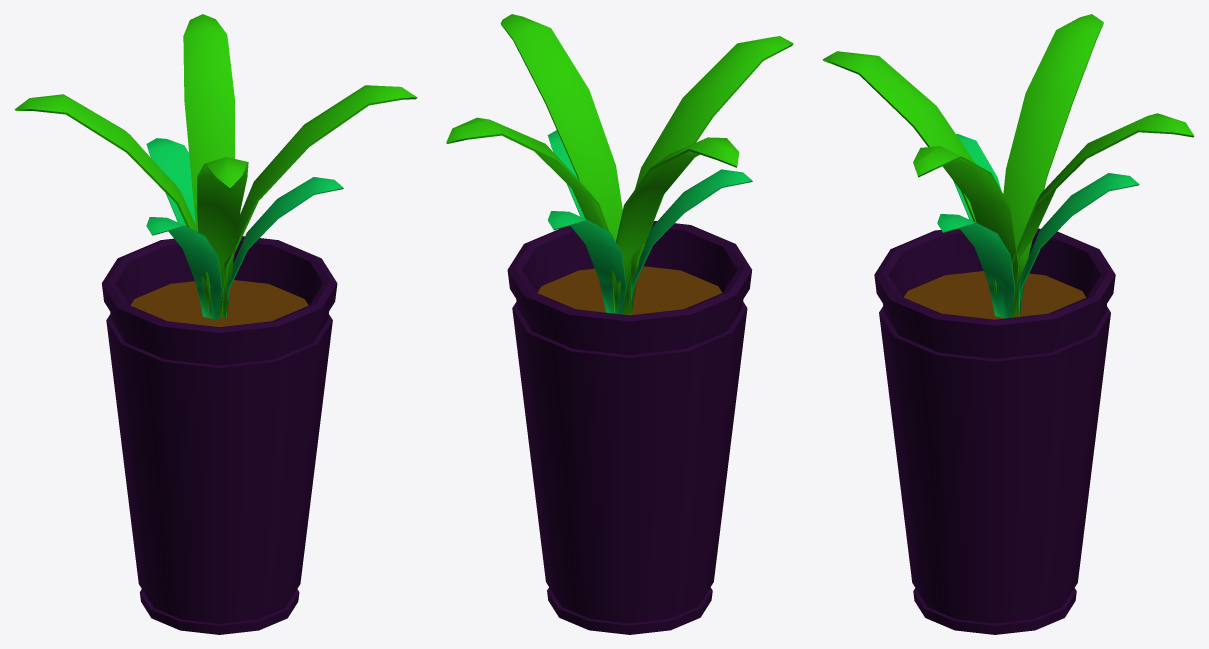
File: Hea_Player_Plant_Ground.fbx
3 views of the same model, side by side, from view 1: azimuth 30°, elevation 25°; view 2: azimuth 150°, elevation 25°; view 3: azimuth 270°, elevation 25° (orthographic). The views are drawn at different scales.
Parts seen in each view (by area): view 1: FlowerPot_I2.001, Plant_I2.002, Plant_I1.003; view 2: FlowerPot_I2.001, Plant_I2.002, Plant_I1.003; view 3: FlowerPot_I2.001, Plant_I2.002, Plant_I1.003.
Part boxes in pixels (<box>): FlowerPot_I2.001: <box>102,236,337,634</box>; Plant_I2.002: <box>14,14,417,317</box>; Plant_I1.003: <box>146,138,343,319</box>; FlowerPot_I2.001: <box>507,221,751,634</box>; Plant_I2.002: <box>446,14,793,314</box>; Plant_I1.003: <box>547,130,752,315</box>; FlowerPot_I2.001: <box>874,228,1115,634</box>; Plant_I2.002: <box>822,14,1194,317</box>; Plant_I1.003: <box>937,134,1139,318</box>.
Bounding box in the file's own units: 54.76 × 83.78 × 54.76.
